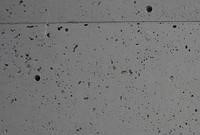Spalling: (1, 1, 200, 135)
